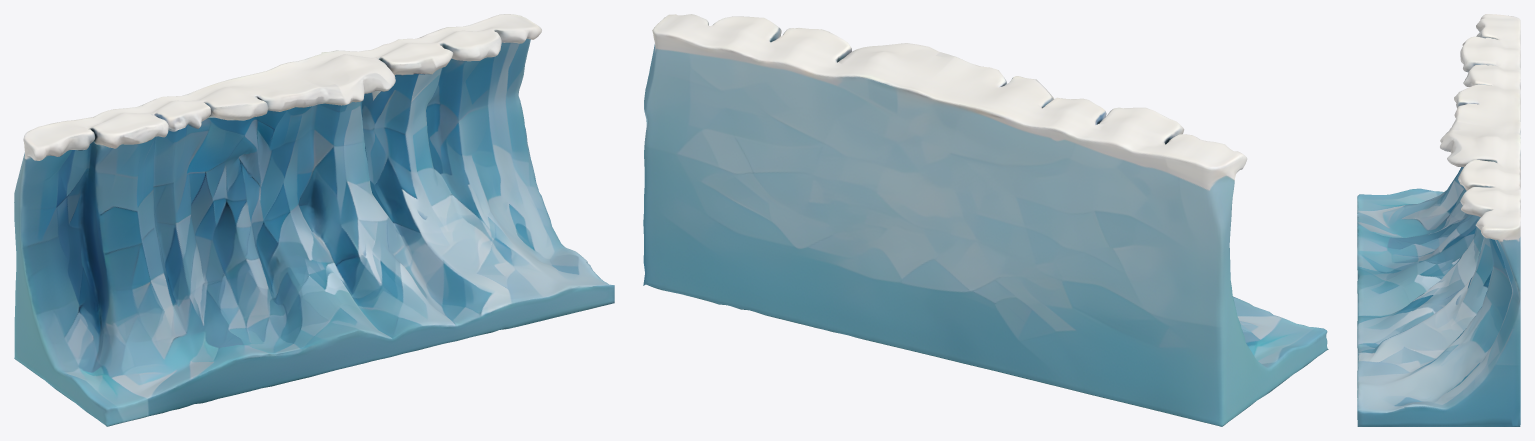
The model's file is wave.glb.
3 views of the same model, side by side, from view 1: azimuth 30°, elevation 25°; view 2: azimuth 150°, elevation 25°; view 3: azimuth 270°, elevation 25° (orthographic). The views are drawn at different scales.
Visible parts, largest first — view 1: model; view 2: model; view 3: model.
Part boxes in pixels (x1,y1,x2,y2): model: [14, 14, 614, 426]; model: [643, 14, 1328, 426]; model: [1357, 14, 1520, 426].
Size of the model in its own units: 1.78 by 0.7952 by 0.5658.
1 material, 1 textured.
